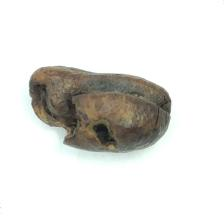NG: (29, 65, 171, 152)
